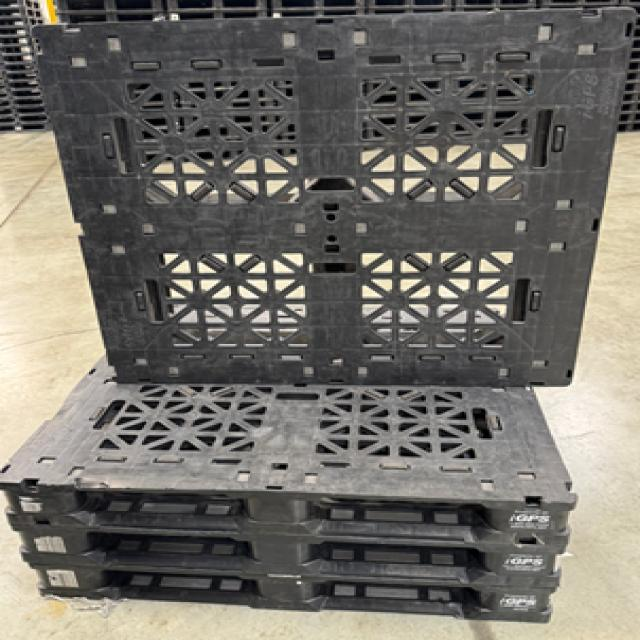igps: (26, 1, 638, 394), (0, 344, 598, 625), (0, 0, 56, 140)
